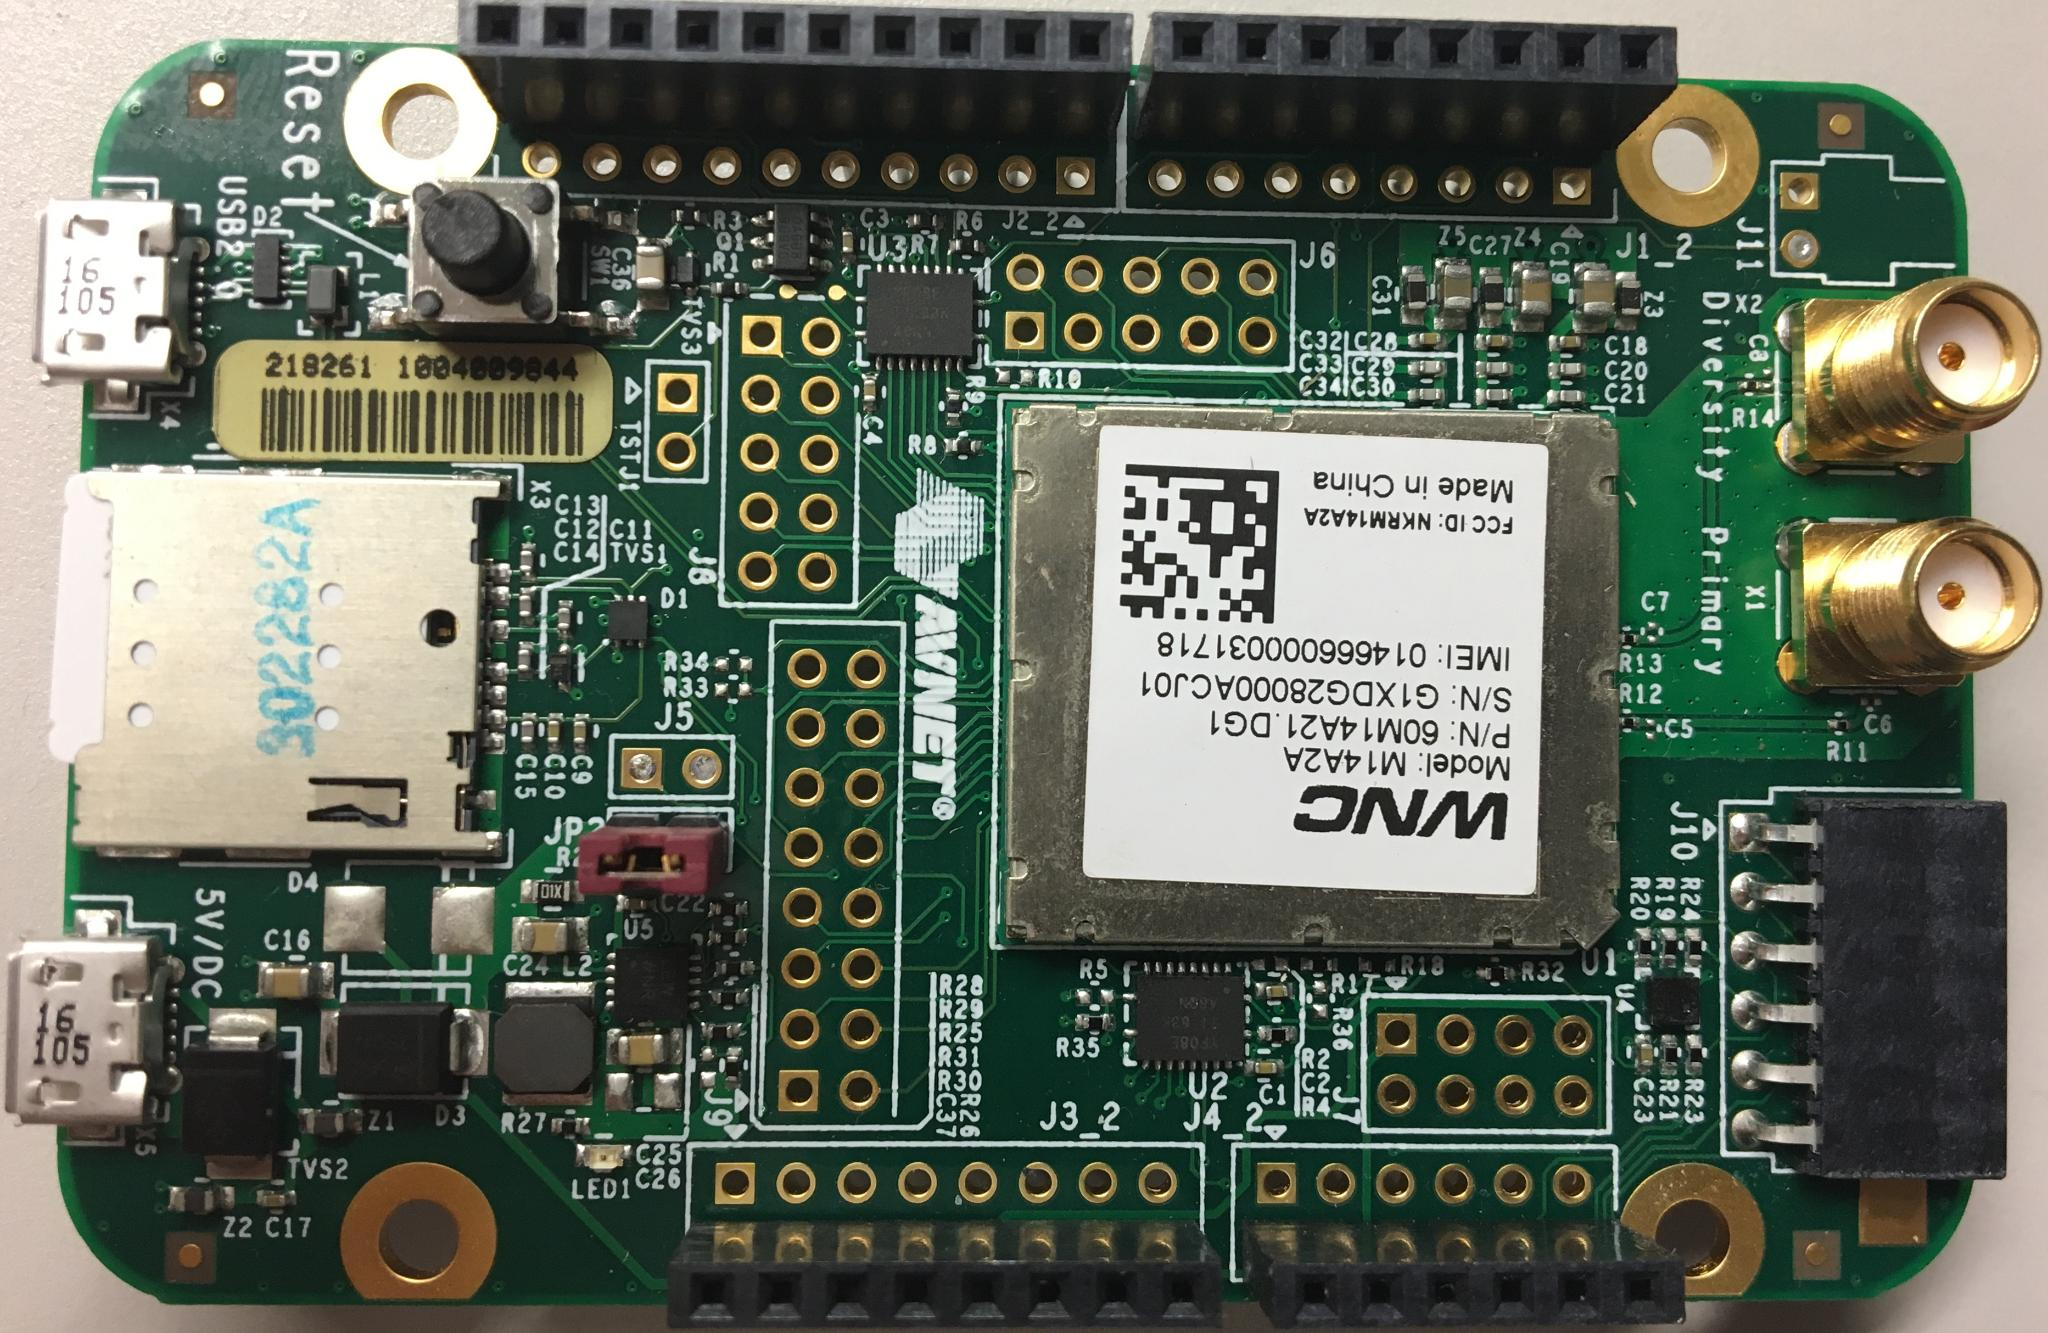tact switch: (415, 181, 564, 337)
tranzystor: (748, 205, 834, 284)
